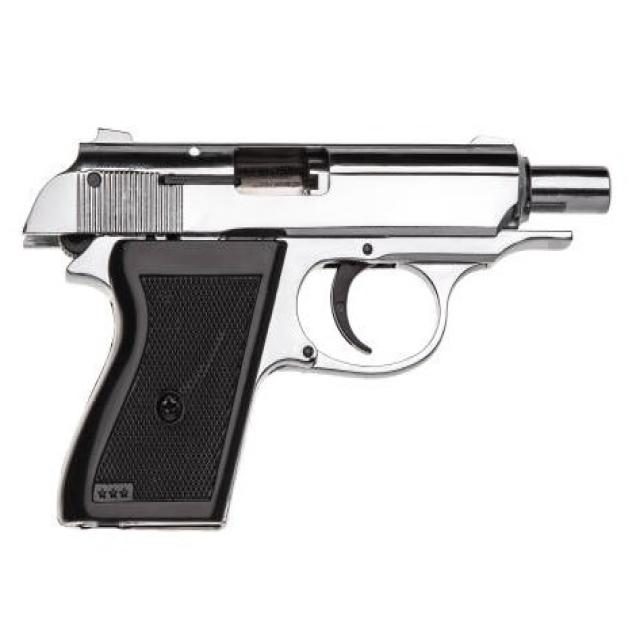pistol: (13, 121, 619, 543)
